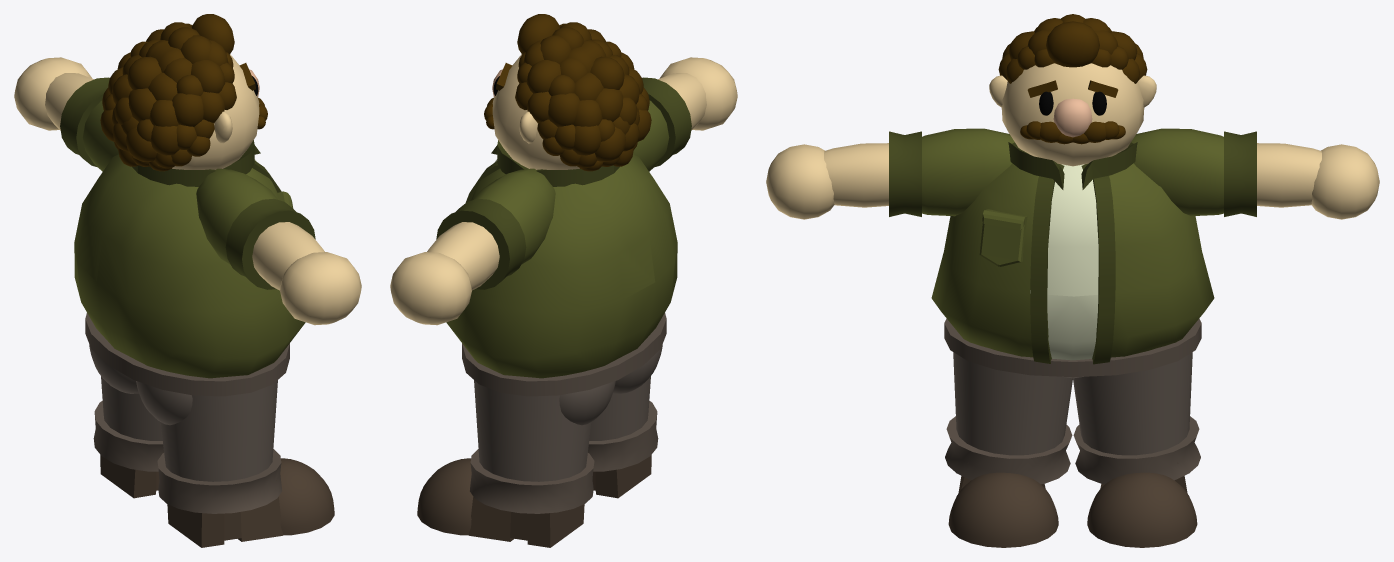
File: FATMAN green shirt.fbx
3 views of the same model, side by side, from view 1: azimuth 30°, elevation 25°; view 2: azimuth 150°, elevation 25°; view 3: azimuth 270°, elevation 25° (orthographic).
Parts seen in each view (by area): view 1: pCube51; view 2: pCube51; view 3: pCube51.
Boxes of the visible parts, box(x1,y1,x2,y2) form: pCube51: box(14, 14, 361, 547); pCube51: box(390, 14, 737, 547); pCube51: box(766, 14, 1379, 547).
Size of the model in its own units: 0.0378 by 0.0879 by 0.1009.
